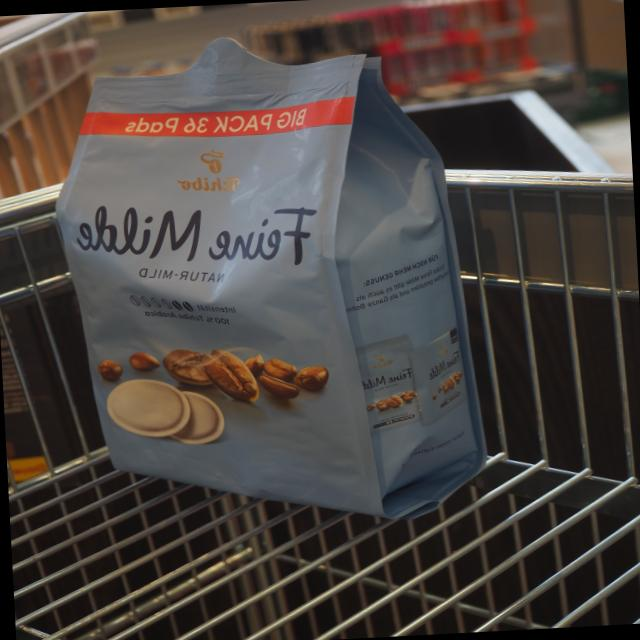FM 36 Pads: (40, 18, 497, 546)
